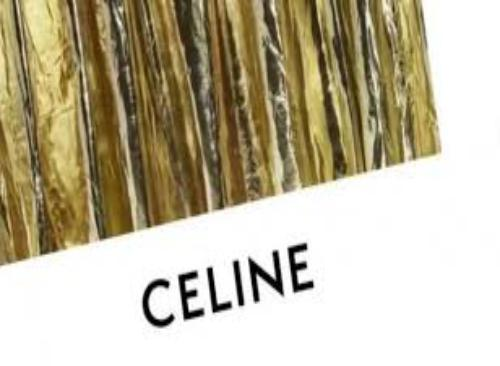CELINE: (139, 243, 321, 332)
